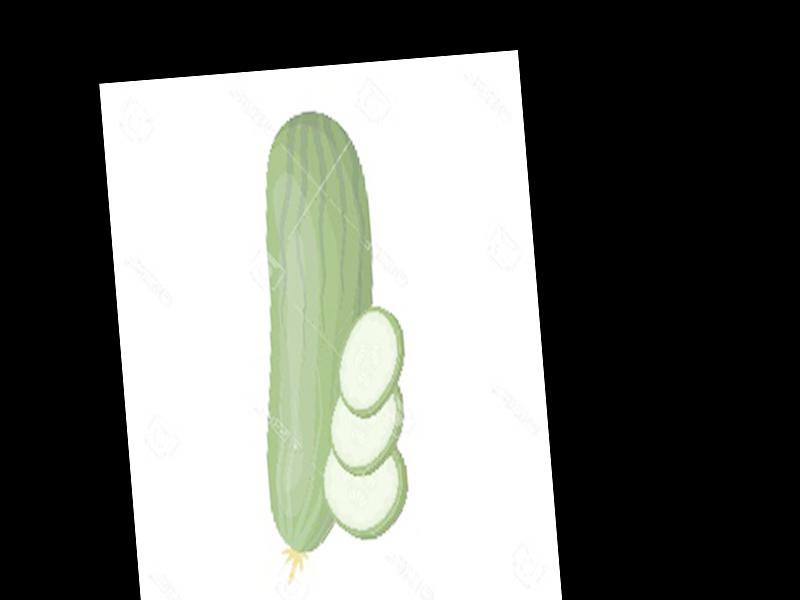Cucumber: (239, 104, 398, 581)
